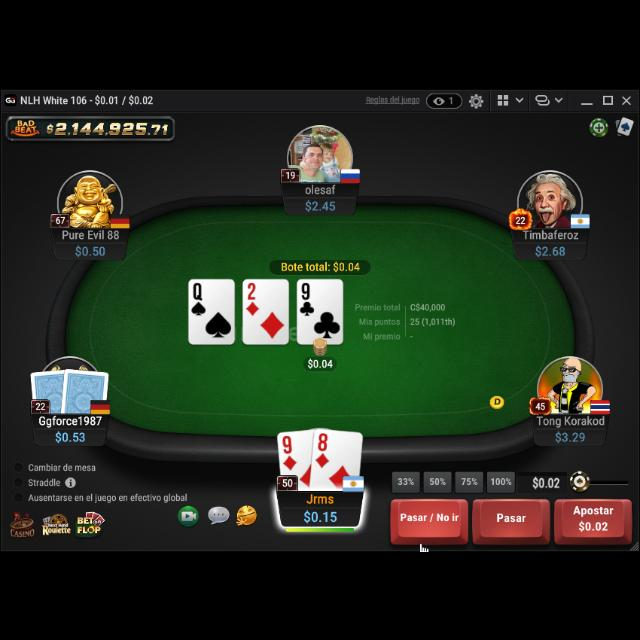8d: (314, 429, 330, 467)
9c: (298, 279, 316, 315)
9d: (281, 432, 299, 471)
Qs: (190, 279, 208, 315)
bet_text: (308, 353, 334, 367)
card_back: (61, 363, 111, 413), (28, 366, 72, 412)
dealer: (487, 392, 507, 410)
hero_active: (388, 494, 632, 544)
pot_text: (280, 258, 362, 270)
stack_text: (302, 504, 340, 522), (305, 197, 339, 211), (534, 241, 566, 255), (554, 426, 586, 440), (55, 427, 87, 441), (74, 241, 106, 255)
